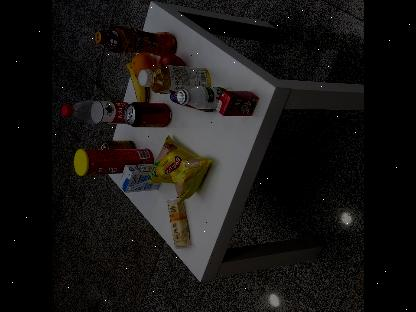Can: (124, 101, 171, 125), (97, 140, 135, 150)
Others: (73, 141, 155, 178), (116, 160, 160, 194), (216, 89, 260, 119)
Plastic Bottle: (58, 94, 138, 132)
